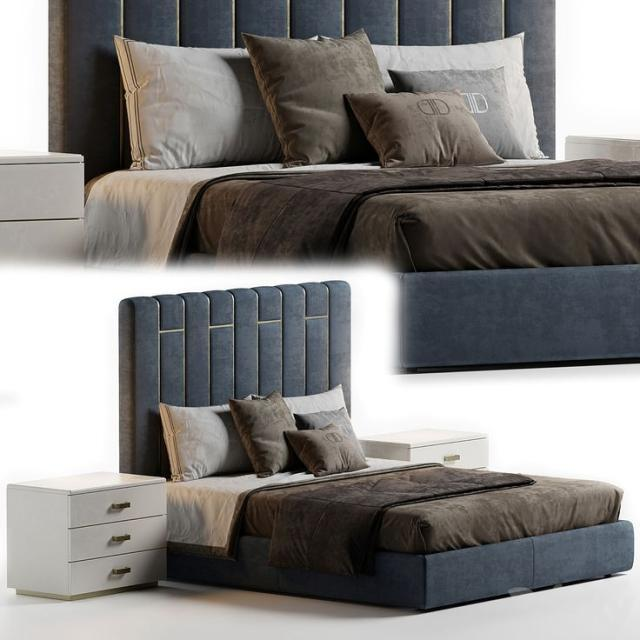obstacle: (116, 278, 635, 612), (51, 0, 640, 269), (5, 470, 168, 601)
